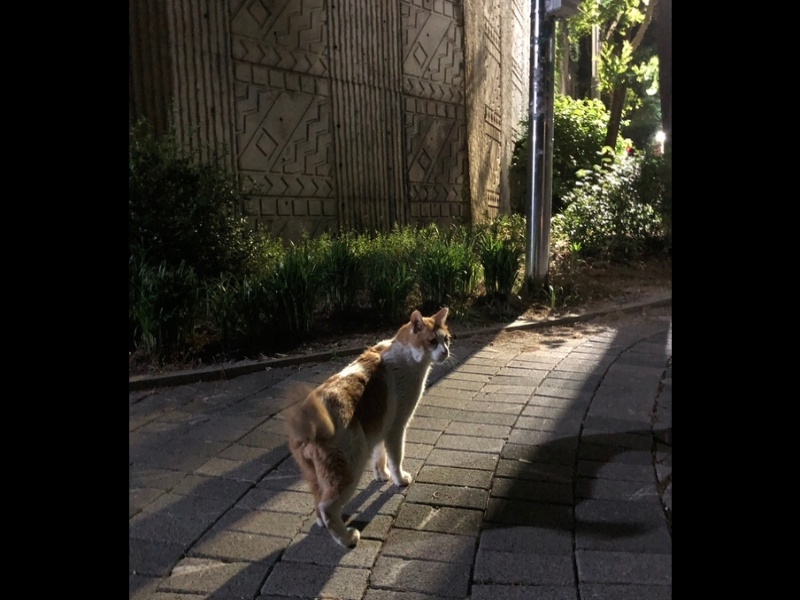cat: (283, 303, 455, 554)
